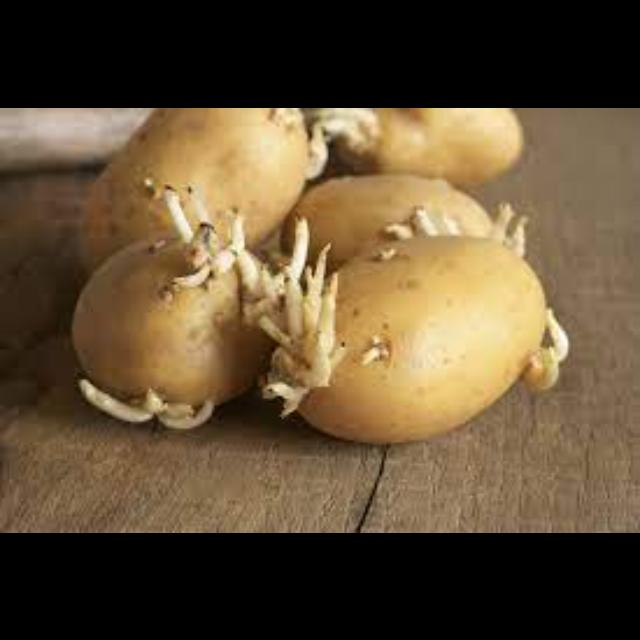Sprouted potato: (294, 247, 578, 445), (58, 238, 270, 436), (82, 107, 324, 253), (308, 108, 524, 182)
